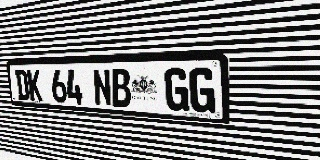4: (65, 69, 83, 104)
6: (50, 69, 68, 103)
B: (110, 68, 132, 108)
D: (14, 70, 30, 101)
G: (189, 67, 215, 114), (164, 68, 189, 112)
K: (27, 70, 43, 102)
N: (92, 69, 112, 106)
